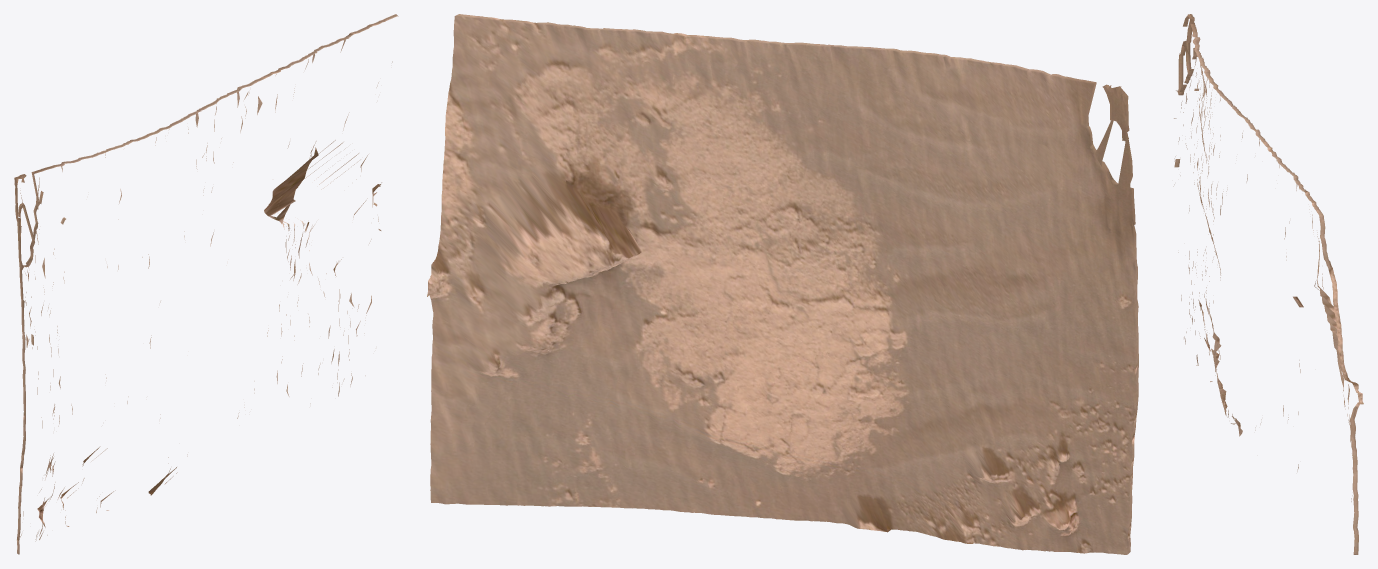
3 renders of one model, left to right at view 1: azimuth 30°, elevation 25°; view 2: azimuth 150°, elevation 25°; view 3: azimuth 270°, elevation 25°, orthographic. The views are drawn at different scales.
Size of the model in its own units: 1.04 by 0.8141 by 0.4287.
1 material, 1 textured.
